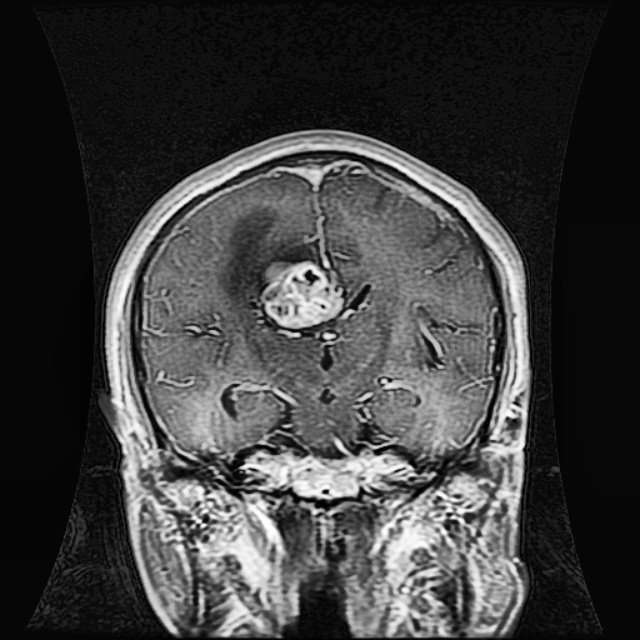Meningioma: (254, 248, 347, 339)
